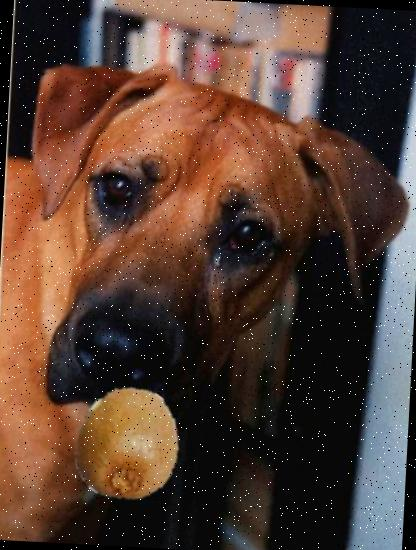Kiwi: (67, 383, 190, 506)
